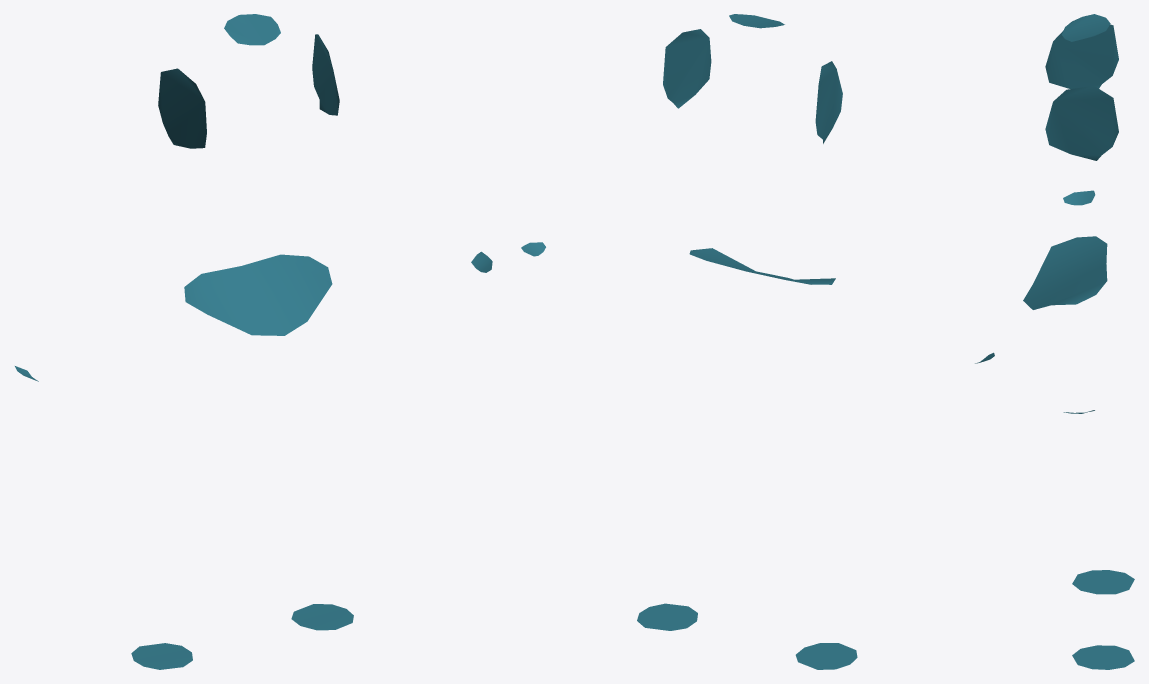
Rendered from ge_hof_interfaces_pantabottes.max.fbx.
3 views of the same model, side by side, from view 1: azimuth 30°, elevation 25°; view 2: azimuth 150°, elevation 25°; view 3: azimuth 270°, elevation 25° (orthographic). The views are drawn at different scales.
Parts seen in each view (by area): view 1: int_tail_cuis, Mesh01, Rectangle02, int_cou_tet, int_molgo_cuissego, Object01; view 2: Rectangle02, Mesh01, int_molgo_cuissego, Object01, int_tail_cuis; view 3: int_tail_cuis, Rectangle02, Mesh01, int_molgo_cuissego, Object01, int_cou_tet, int_avbradr_maindr.
Part boxes in pixels (bbox=[...]): int_tail_cuis: bbox=[184, 254, 332, 335]; Mesh01: bbox=[158, 68, 206, 148]; Rectangle02: bbox=[312, 34, 339, 115]; int_cou_tet: bbox=[224, 14, 280, 45]; int_molgo_cuissego: bbox=[291, 604, 353, 630]; Object01: bbox=[131, 643, 192, 669]; Rectangle02: bbox=[663, 29, 711, 108]; Mesh01: bbox=[815, 61, 842, 143]; int_molgo_cuissego: bbox=[637, 603, 697, 630]; Object01: bbox=[795, 643, 857, 669]; int_tail_cuis: bbox=[689, 248, 835, 284]; int_tail_cuis: bbox=[1023, 236, 1107, 309]; Rectangle02: bbox=[1045, 86, 1118, 160]; Mesh01: bbox=[1045, 24, 1118, 88]; int_molgo_cuissego: bbox=[1072, 645, 1134, 669]; Object01: bbox=[1072, 570, 1134, 594]; int_cou_tet: bbox=[1062, 14, 1110, 41]; int_avbradr_maindr: bbox=[1063, 190, 1095, 205].
Size of the model in its own units: 0.7884 by 0.9915 by 0.1686.
